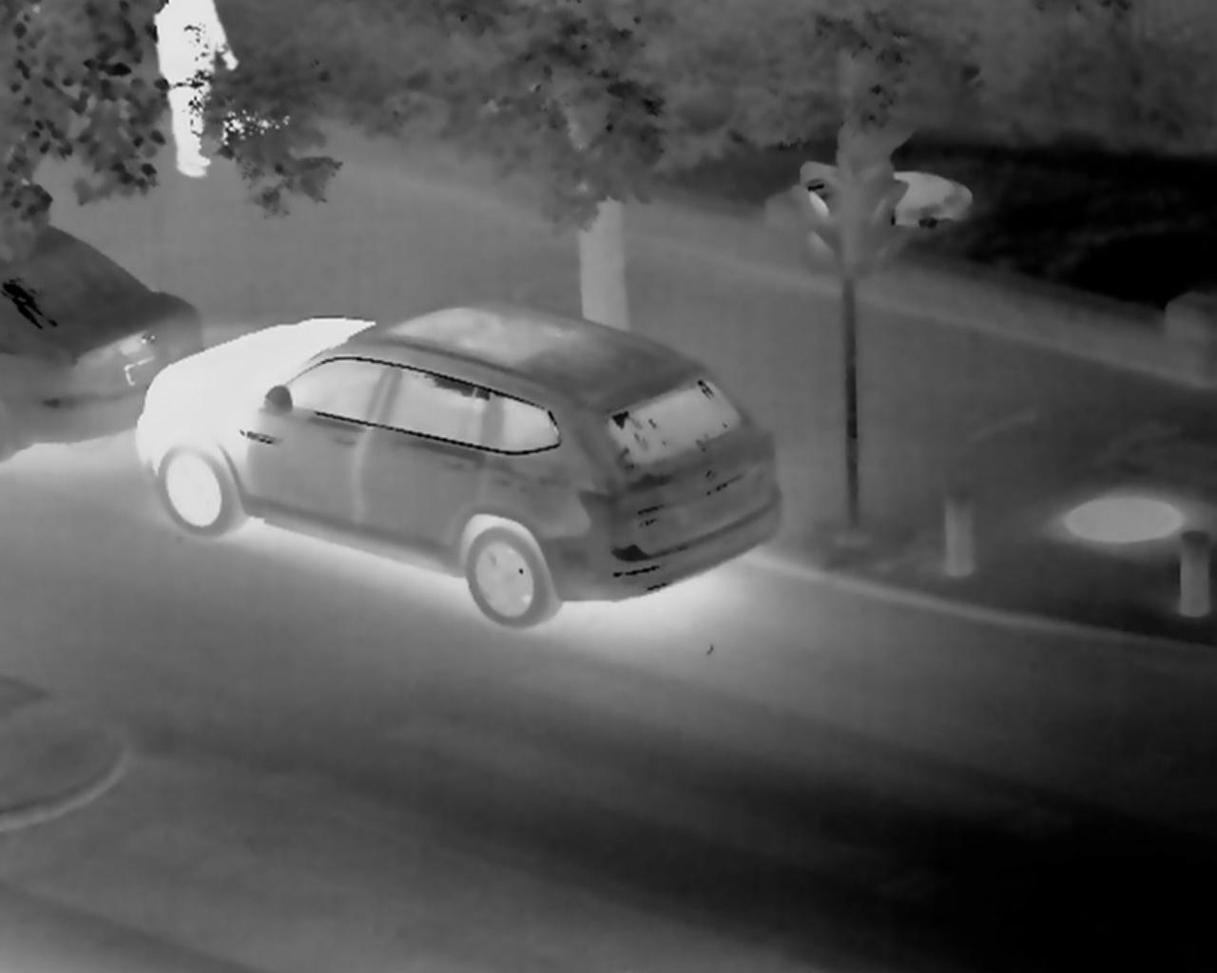person: (145, 2, 254, 188)
